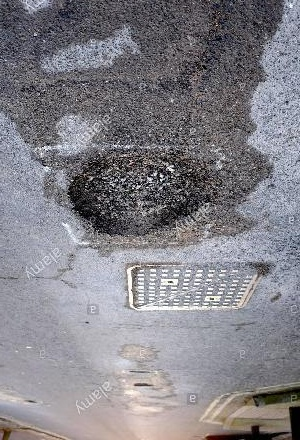pothole: (67, 144, 225, 241), (128, 381, 155, 388)
